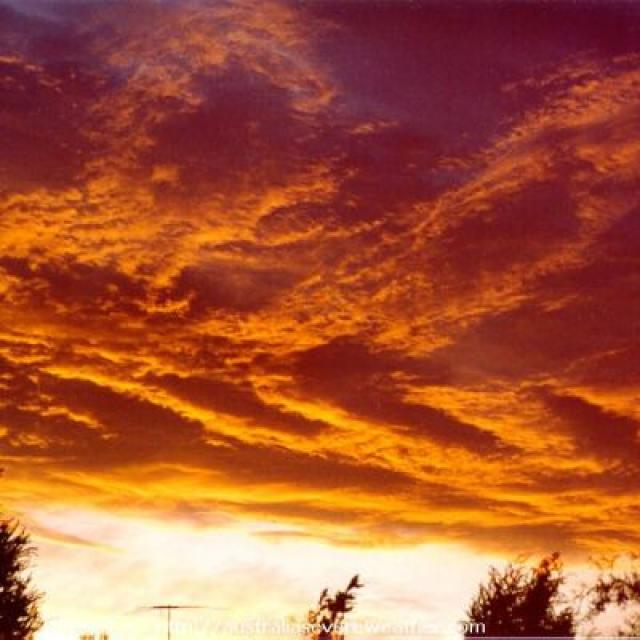As: (1, 72, 640, 399)
